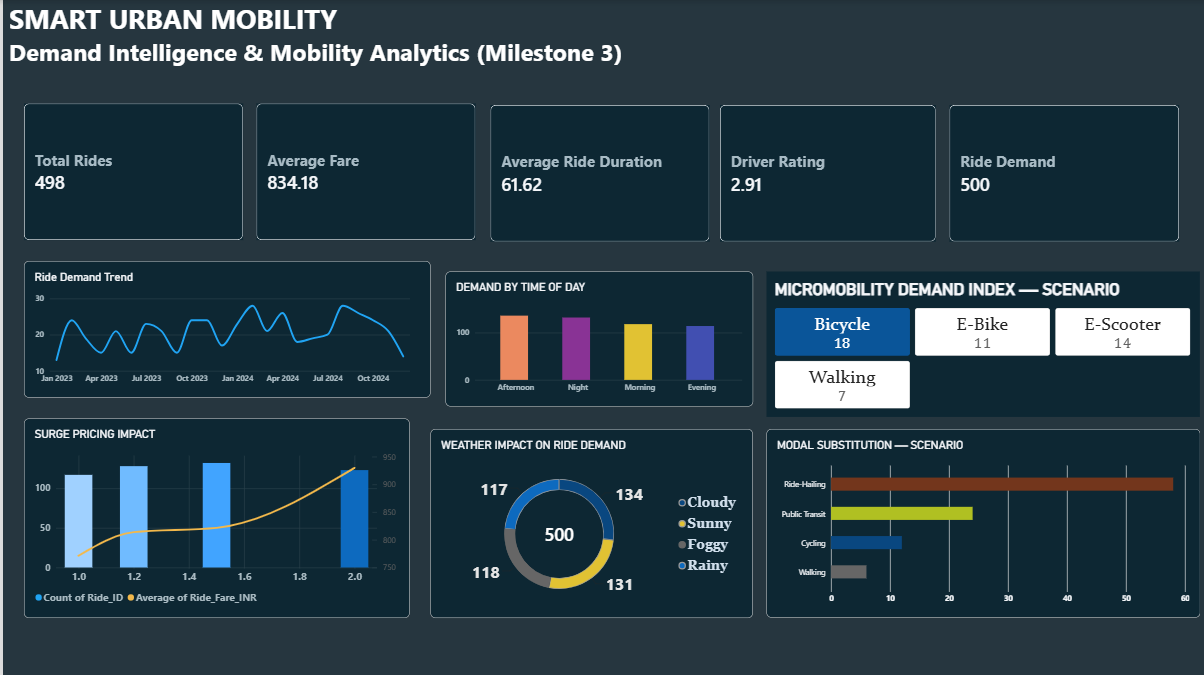

The dashboard page shown, as its layout file describes it:
{"tool":"powerbi","page":{"name":"Milestone 3 – Demand Intelligence","canvas":[1920,1080],"ordinal":2},"visuals":[{"type":"textbox","box":[9.5,0,1388.6,136],"z":0},{"type":"cardVisual","fields":{"Data":["ride_safety_dataset.Total Rides"]},"box":[33.4,164.6,348.3,217.1],"z":1000},{"type":"cardVisual","fields":{"Data":["ride_safety_dataset.Average Fare"]},"box":[403.2,164.6,348.3,217.1],"z":2000},{"type":"cardVisual","fields":{"Data":["ride_safety_dataset.Driver Rating"]},"box":[1140.5,167,343.6,217.1],"z":3000},{"type":"cardVisual","fields":{"Data":["ride_safety_dataset.Average Ride Duration"]},"box":[775.4,167,348.3,217.1],"z":4000},{"type":"cardVisual","fields":{"Data":["ride_safety_dataset.Ride Demand"]},"box":[1505.5,167,365,217.1],"z":5000},{"type":"lineChart","title":"Ride Demand Trend","fields":{"Category":["DimDate.Date.Variation.Date Hierarchy.Year","DimDate.Date.Variation.Date Hierarchy.Month"],"Y":["ride_safety_dataset.Ride Demand"]},"box":[33.4,415.1,646.6,217.1],"z":6000},{"type":"clusteredColumnChart","title":"DEMAND BY TIME OF DAY","fields":{"Category":["DimTime.Time_of_Day"],"Y":["ride_safety_dataset.Ride Demand"]},"box":[703.8,431.9,489.1,214.7],"z":7000},{"type":"lineClusteredColumnComboChart","title":"SURGE PRICING IMPACT","fields":{"Category":["ride_safety_dataset.Ride_Surge_Pricing_Factor"],"Y":["CountNonNull(ride_safety_dataset.Ride_ID)"],"Y2":["Avg(ride_safety_dataset.Ride_Fare_INR)"]},"box":[33.4,665.7,613.2,317.3],"z":8000},{"type":"donutChart","title":"WEATHER IMPACT ON RIDE DEMAND","fields":{"Category":["DimWeather.Weather_Condition"],"Y":["ride_safety_dataset.Ride Demand"]},"box":[680,682.4,513,300.6],"z":9000},{"type":"advancedSlicerVisual","title":"MICROMOBILITY DEMAND INDEX — SCENARIO","fields":{"Label":["Sum(Micromobility_Scenario.Demand Index)"],"Values":["Micromobility_Scenario.Mobility Mode"]},"box":[1215,432.5,689.5,231.4],"z":10000},{"type":"clusteredBarChart","title":"MODAL SUBSTITUTION — SCENARIO","fields":{"Category":["Modal_Substitution_Scenario.Mobility Mode"],"Y":["Sum(Modal_Substitution_Scenario.Share %)"]},"box":[1215,682.5,690,300],"z":11000}]}

Visuals, with their boxes in screenshot pixels (x1, y1, x2, y2), scaled from the page's 1920x1080 canvas onto the 1204x675 screenshot:
textbox: {"x1": 6, "y1": 0, "x2": 877, "y2": 85}
cardVisual - ride_safety_dataset.Total Rides: {"x1": 21, "y1": 103, "x2": 239, "y2": 239}
cardVisual - ride_safety_dataset.Average Fare: {"x1": 253, "y1": 103, "x2": 471, "y2": 239}
cardVisual - ride_safety_dataset.Driver Rating: {"x1": 715, "y1": 104, "x2": 931, "y2": 240}
cardVisual - ride_safety_dataset.Average Ride Duration: {"x1": 486, "y1": 104, "x2": 705, "y2": 240}
cardVisual - ride_safety_dataset.Ride Demand: {"x1": 944, "y1": 104, "x2": 1173, "y2": 240}
"Ride Demand Trend" lineChart: {"x1": 21, "y1": 259, "x2": 426, "y2": 395}
"DEMAND BY TIME OF DAY" clusteredColumnChart: {"x1": 441, "y1": 270, "x2": 748, "y2": 404}
"SURGE PRICING IMPACT" lineClusteredColumnComboChart: {"x1": 21, "y1": 416, "x2": 405, "y2": 614}
"WEATHER IMPACT ON RIDE DEMAND" donutChart: {"x1": 426, "y1": 426, "x2": 748, "y2": 614}
"MICROMOBILITY DEMAND INDEX — SCENARIO" advancedSlicerVisual: {"x1": 762, "y1": 270, "x2": 1194, "y2": 415}
"MODAL SUBSTITUTION — SCENARIO" clusteredBarChart: {"x1": 762, "y1": 427, "x2": 1195, "y2": 614}
